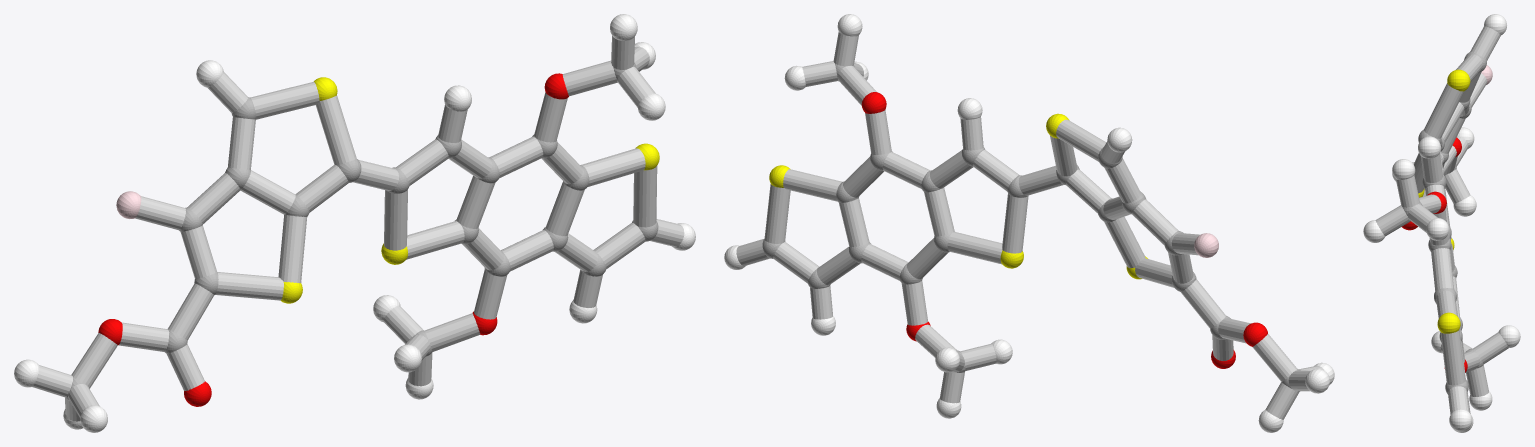
File: Dimethoxy_Benzodithiophene_Phi_30_Theta_20_Methylcarbonyl_3_Fluoro_Thienothiophene.glb
3 views of the same model, side by side, from view 1: azimuth 30°, elevation 25°; view 2: azimuth 150°, elevation 25°; view 3: azimuth 270°, elevation 25° (orthographic). The views are drawn at different scales.
Visible parts, largest first — view 1: grp15205, grp8689, grp1, grp13395, grp7241; view 2: grp15205, grp8689, grp1, grp13395, grp7241; view 3: grp15205, grp8689, grp1, grp7241, grp13395.
Part boxes in pixels (box(x1,y1,x2,y2)): grp15205: box(32, 35, 684, 421); grp8689: box(14, 14, 695, 432); grp1: box(65, 63, 658, 401); grp13395: box(98, 73, 568, 406); grp7241: box(281, 77, 659, 303); grp15205: box(736, 32, 1324, 419); grp8689: box(724, 14, 1334, 432); grp1: box(762, 64, 1300, 391); grp13395: box(861, 92, 1267, 368); grp7241: box(769, 113, 1147, 279); grp15205: box(1375, 26, 1508, 414); grp8689: box(1363, 14, 1520, 432); grp1: box(1402, 51, 1486, 394); grp7241: box(1418, 69, 1470, 333); grp13395: box(1402, 137, 1467, 372).
Bounding box in the file's own units: 16.75 × 8.97 × 4.07.
